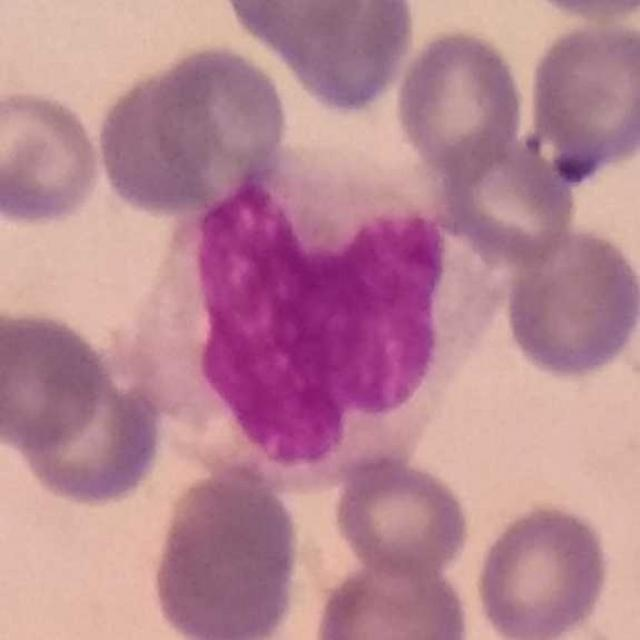Monocyte: (126, 141, 508, 485)
RBC: (97, 39, 295, 217), (5, 339, 168, 511), (147, 465, 305, 640), (498, 220, 640, 382), (391, 24, 528, 184), (429, 132, 578, 270), (469, 498, 613, 640), (522, 15, 640, 182), (328, 451, 474, 582), (259, 0, 421, 116), (0, 302, 114, 454), (0, 82, 107, 230), (310, 551, 474, 640), (215, 1, 388, 60), (511, 0, 639, 23)
